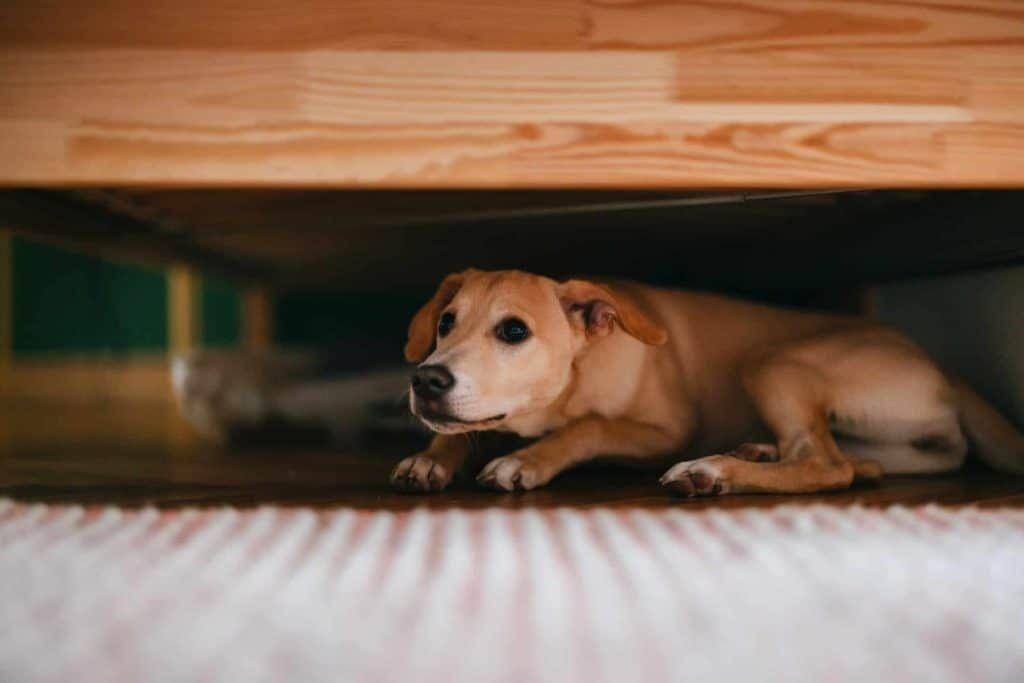puppy-dog: (388, 263, 1024, 497)
